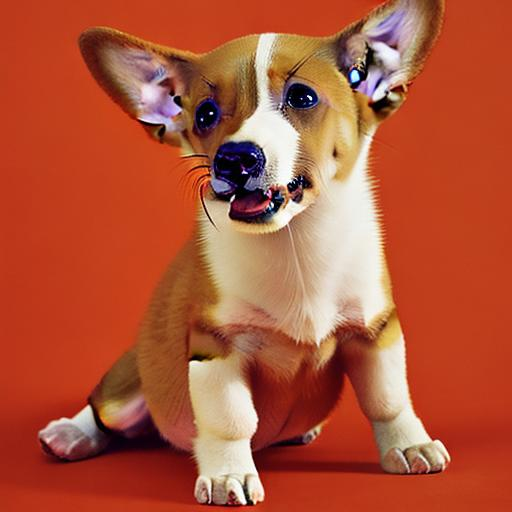eye: (279, 79, 324, 114), (188, 99, 226, 127)
